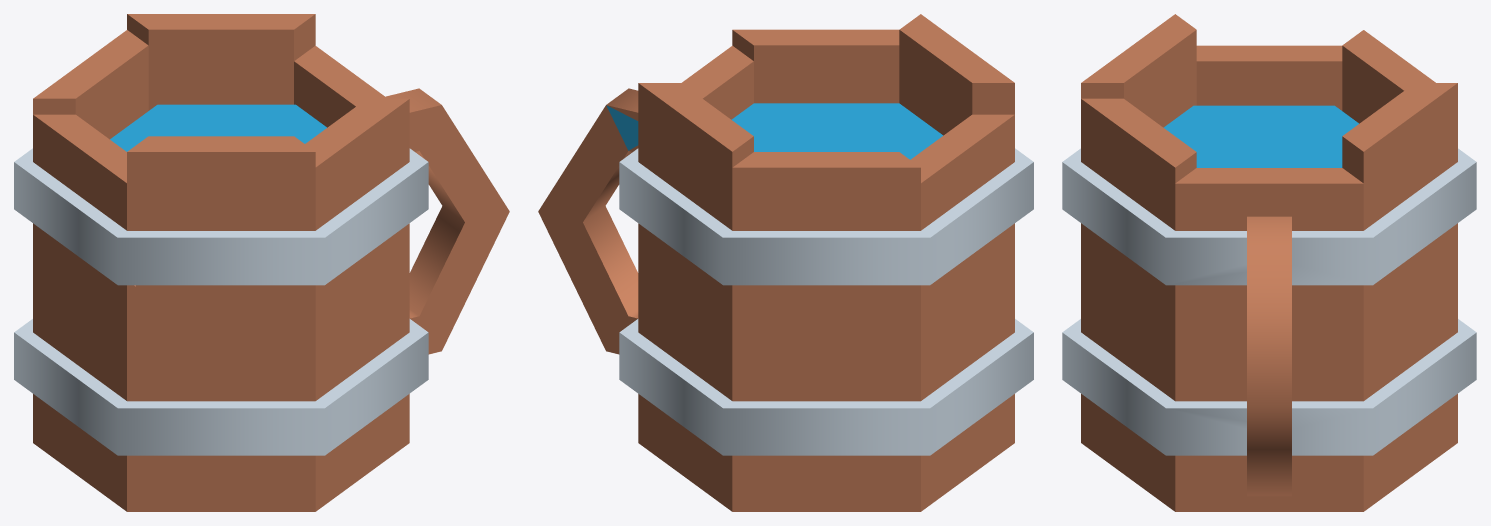
The model's file is MugWater.fbx.
3 views of the same model, side by side, from view 1: azimuth 30°, elevation 25°; view 2: azimuth 150°, elevation 25°; view 3: azimuth 270°, elevation 25° (orthographic).
Visible parts, largest first — view 1: mug; view 2: mug; view 3: mug.
Part boxes in pixels (x1,y1,x2,y2): mug: (14,14,509,511); mug: (538,14,1033,511); mug: (1062,14,1476,511).
Bounding box in the file's own units: 34.37 × 27.34 × 28.51.
